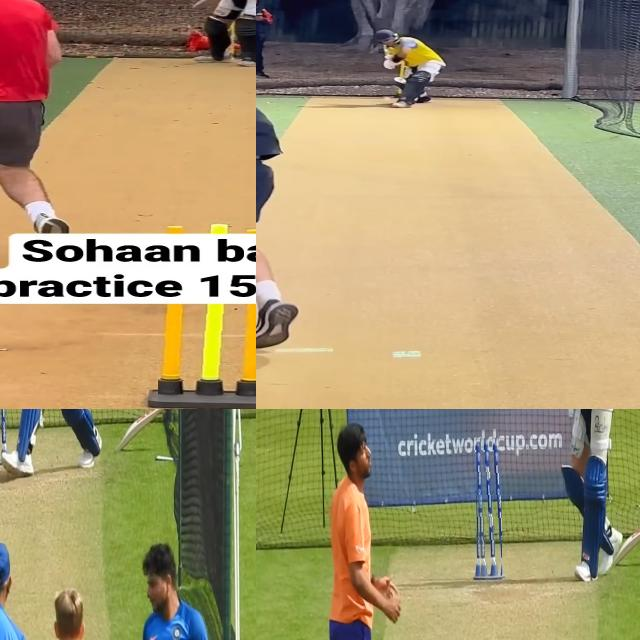Cricket ball: (383, 96, 392, 102)
Stumps: (157, 305, 256, 409), (474, 438, 502, 580)
